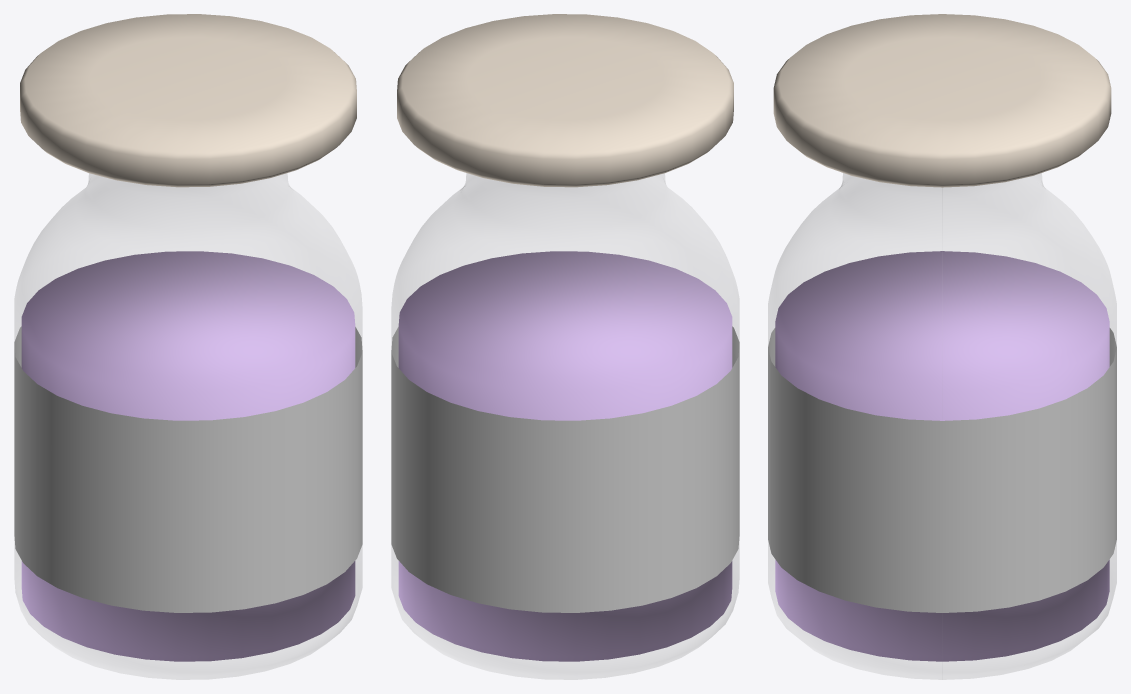
Rendered from Cure.glb.
3 renders of one model, left to right at view 1: azimuth 30°, elevation 25°; view 2: azimuth 150°, elevation 25°; view 3: azimuth 270°, elevation 25°, orthographic.
Visible parts, largest first — view 1: Vial, Label; view 2: Vial, Label; view 3: Vial, Label.
Boxes of the visible parts, box(x1,y1,x2,y2) form: Vial: box(14, 14, 362, 679); Label: box(14, 326, 362, 612); Vial: box(391, 14, 739, 679); Label: box(391, 326, 739, 612); Vial: box(768, 14, 1116, 679); Label: box(768, 328, 1116, 612).
Size of the model in its own units: 0.0608 by 0.1039 by 0.0608.
Materials: 4 (1 with a texture image).
